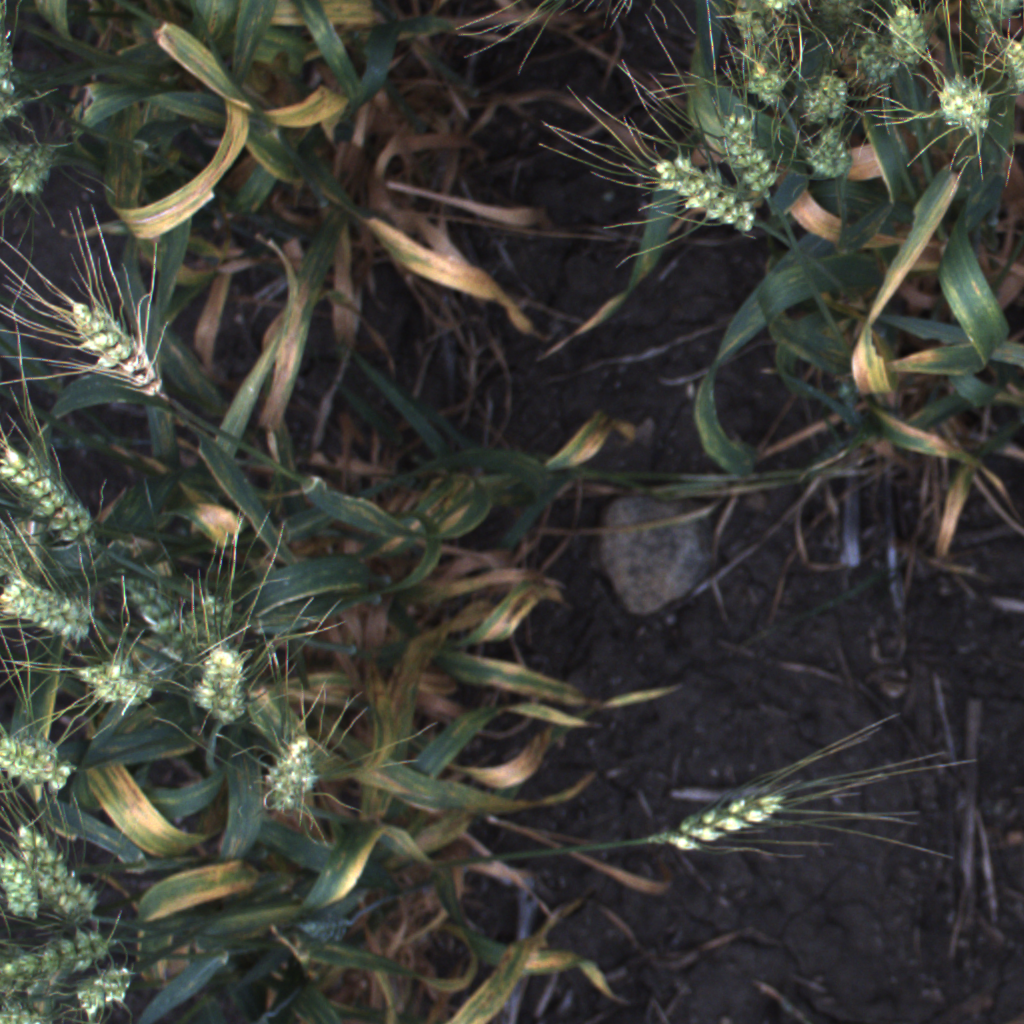wheat_head: (0, 424, 116, 571), (51, 282, 181, 406), (637, 146, 766, 248), (9, 806, 108, 929), (651, 782, 799, 860), (0, 565, 116, 652), (0, 918, 128, 992), (711, 107, 786, 208), (58, 653, 163, 719), (258, 728, 328, 823), (0, 725, 84, 800), (0, 842, 55, 942), (70, 954, 144, 1024), (931, 68, 997, 141), (796, 124, 865, 185), (733, 54, 800, 115), (794, 68, 860, 129), (169, 601, 217, 681), (885, 0, 939, 71), (203, 650, 253, 724), (124, 580, 178, 638), (0, 153, 64, 200), (287, 905, 354, 948), (730, 0, 799, 41), (1, 128, 60, 173), (982, 32, 1024, 91), (848, 41, 900, 84)
